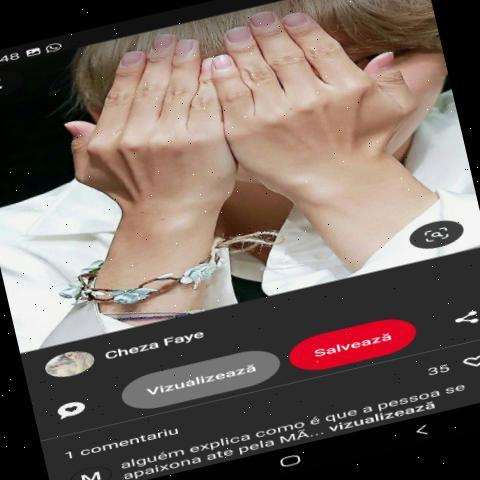Hands: (214, 7, 472, 239), (55, 29, 234, 249)
